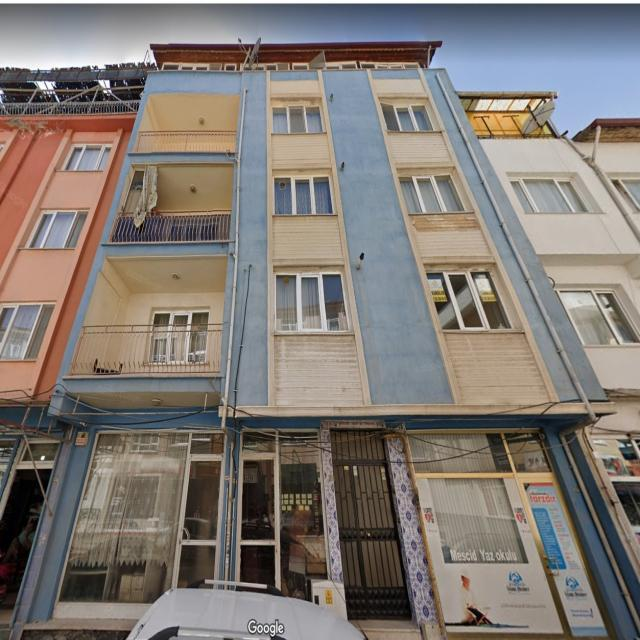Building: (9, 39, 640, 640)
